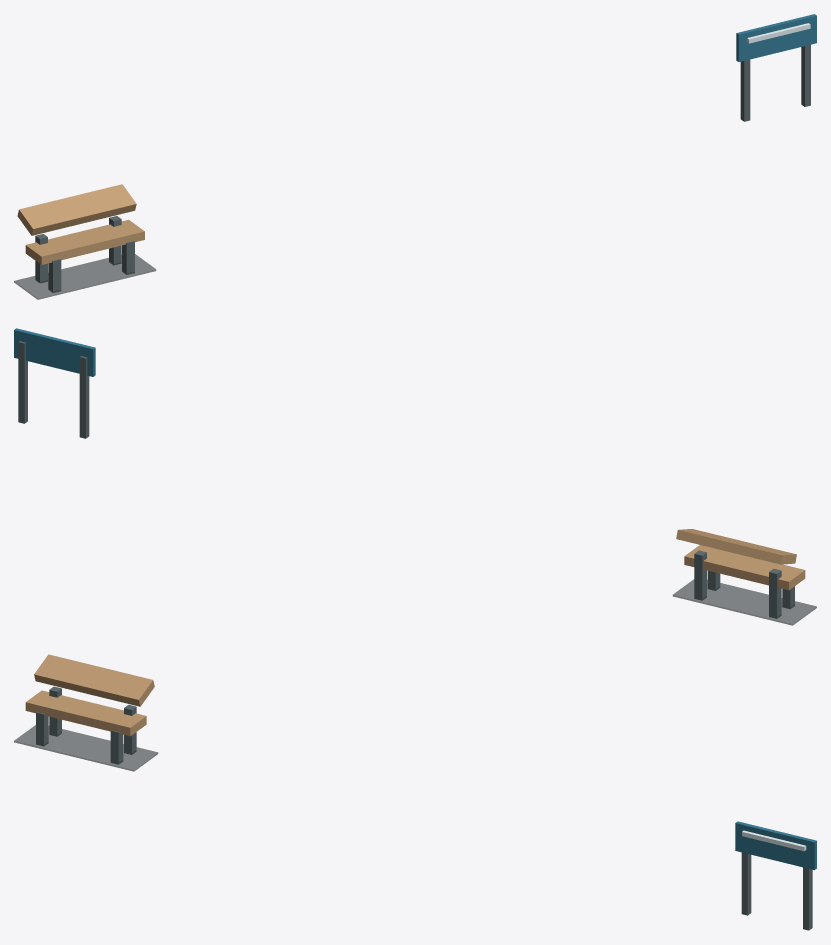
File: park-props.glb
The picture shows the model from 3 angles, top to bottom: view 1: azimuth 30°, elevation 25°; view 2: azimuth 150°, elevation 25°; view 3: azimuth 330°, elevation 25°; orthographic projection.
Visible parts, largest first — view 1: Bench back, Bench seat, Bench shadow pad, Court sign panel, Court sign post L, Court sign post R; view 2: Bench shadow pad, Bench seat, Court sign panel, Bench back, Court sign post L, Court sign post R, Bench rear leg R, Bench rear leg L; view 3: Bench back, Bench seat, Bench shadow pad, Court sign panel, Court sign post L, Court sign post R.
Boxes of the visible parts, left/top/right/bottom form: Bench back: left=17, top=184, right=136, bottom=235; Bench seat: left=25, top=219, right=144, bottom=264; Bench shadow pad: left=14, top=254, right=156, bottom=299; Court sign panel: left=736, top=14, right=816, bottom=61; Court sign post L: left=740, top=59, right=750, bottom=121; Court sign post R: left=801, top=44, right=810, bottom=106; Bench shadow pad: left=672, top=579, right=816, bottom=625; Bench seat: left=684, top=545, right=805, bottom=590; Court sign panel: left=14, top=328, right=95, bottom=376; Bench back: left=676, top=529, right=796, bottom=564; Court sign post L: left=79, top=356, right=89, bottom=438; Court sign post R: left=18, top=341, right=27, bottom=423; Bench rear leg R: left=694, top=550, right=706, bottom=600; Bench rear leg L: left=769, top=568, right=781, bottom=618; Bench back: left=34, top=654, right=154, bottom=706; Bench seat: left=25, top=690, right=146, bottom=736; Bench shadow pad: left=14, top=725, right=158, bottom=771; Court sign panel: left=735, top=821, right=816, bottom=869; Court sign post L: left=741, top=852, right=751, bottom=915; Court sign post R: left=803, top=867, right=812, bottom=930.
Bounding box in the file's own units: 15.55 × 1.68 × 0.9617.
